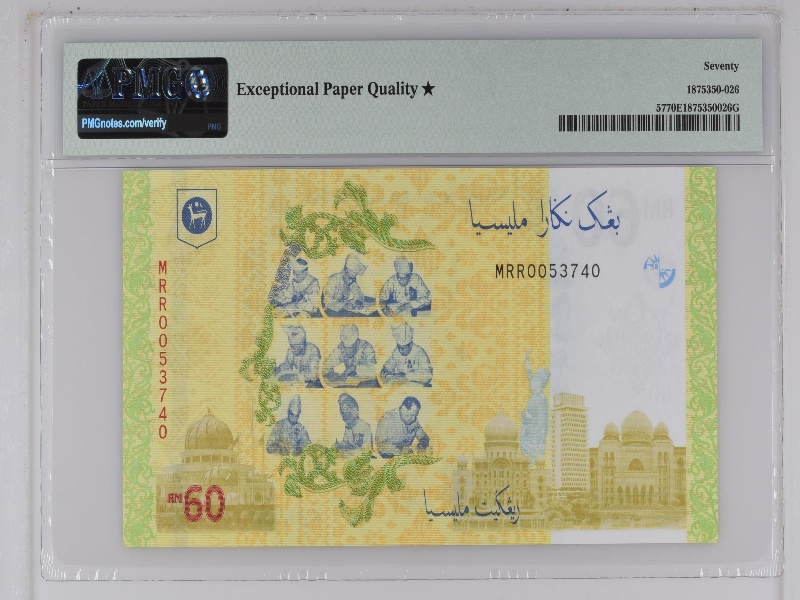papernote: (121, 163, 725, 545)
